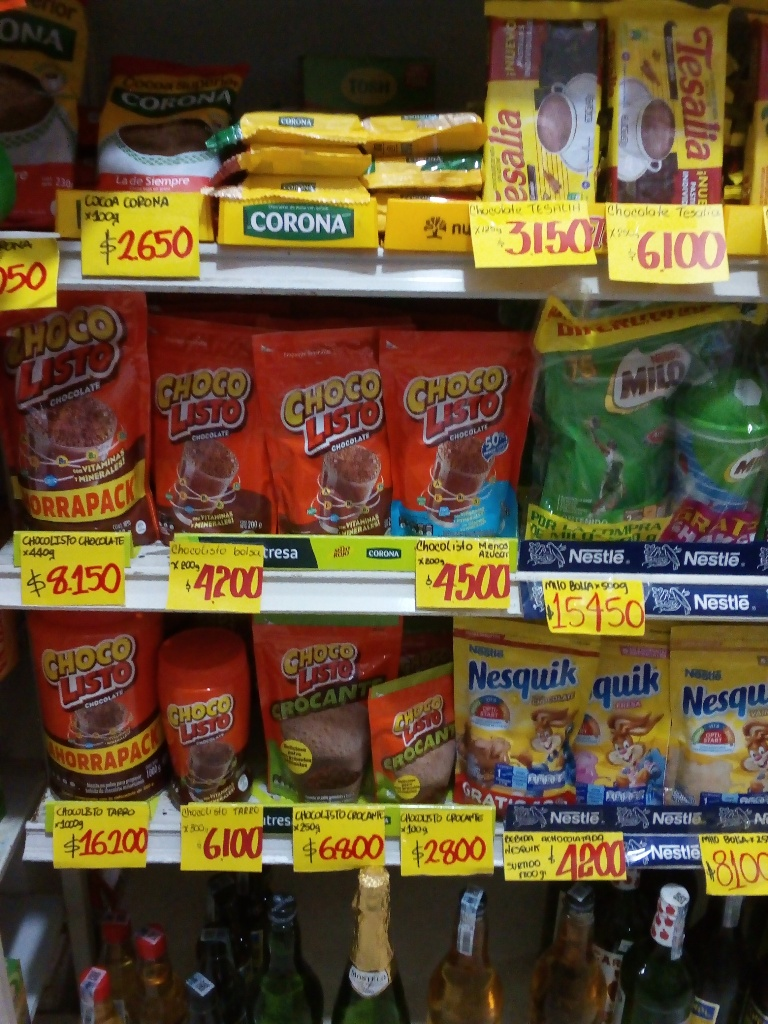COL0170102DYP10000: (362, 664, 459, 808)
COL0170102DYP25000: (261, 616, 394, 808)
COL0170103DYP20000: (158, 313, 280, 552)
COL0170103DYP44000: (6, 286, 157, 547)
COL0170103TRR00100: (28, 618, 161, 802)
COL0170103TRR30000: (159, 621, 259, 804)
COL0170104DYP20000: (380, 330, 523, 543)
COL0170203DYP50000: (525, 303, 672, 543)
COL0170305DYP20000: (574, 625, 670, 808)
COL0170306DYP20000: (668, 614, 767, 807)
